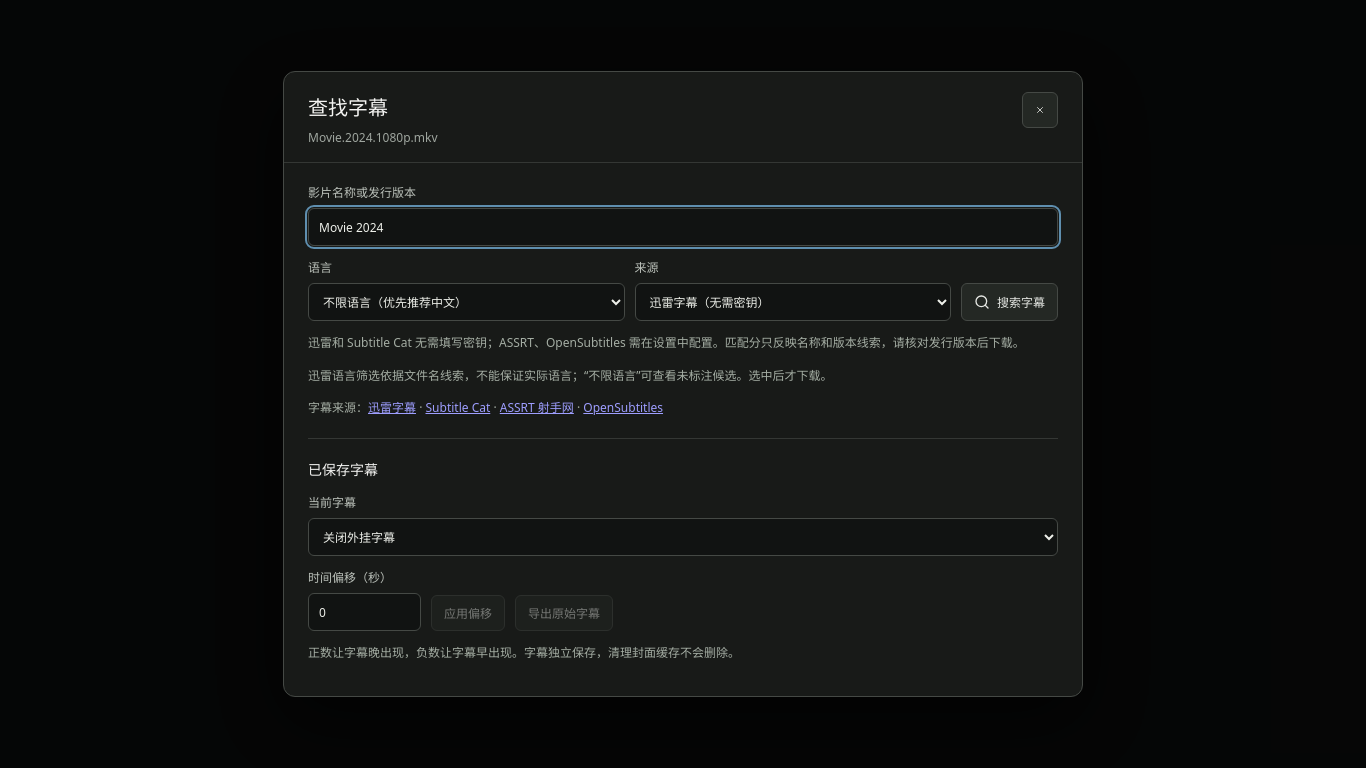
Test: subtitle interaction › ignores results after closing and prevents duplicate requests
The width and height of the screenshot is (1366, 768).
Later steps or results of the test are not shown.
Click the button "搜索字幕": (1010, 302) [961,283,1058,321]
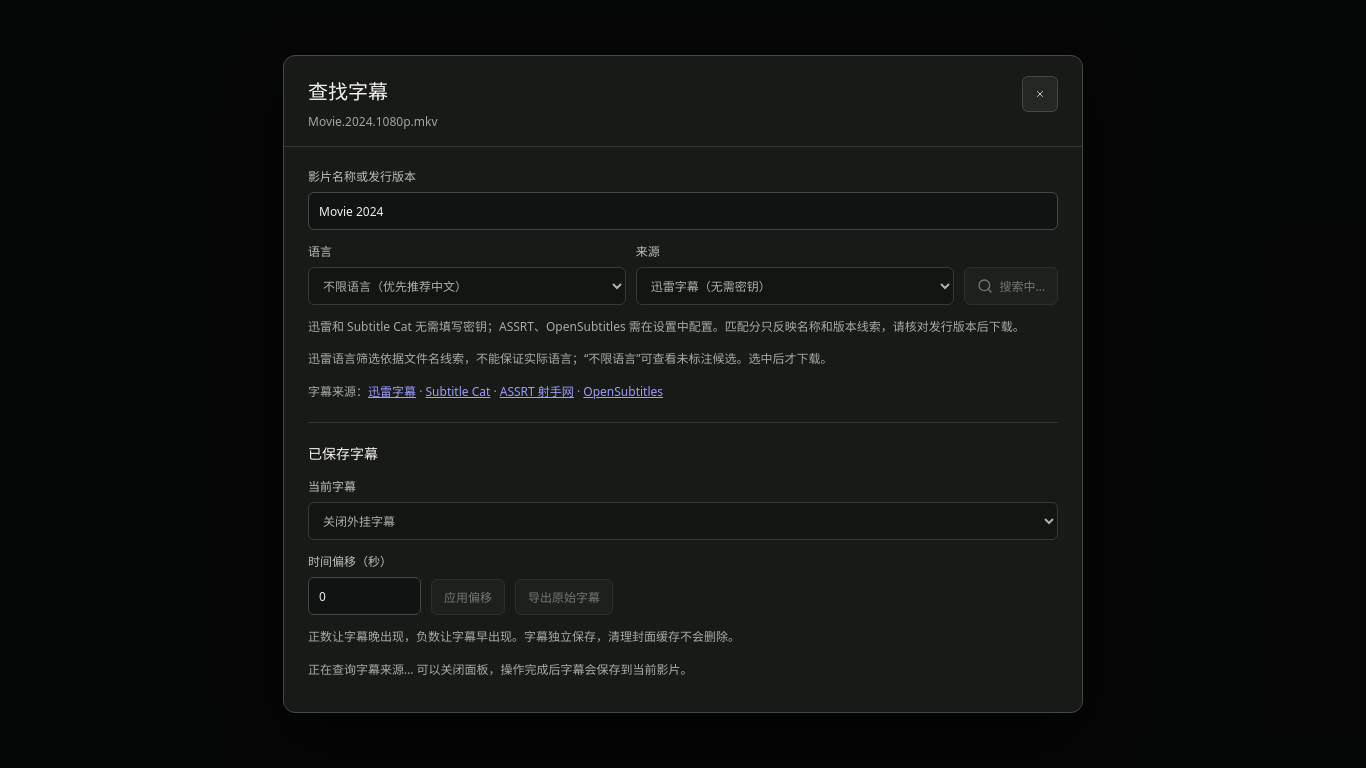
Result: the button "搜索中…" is disabled at [964,267,1058,305]
